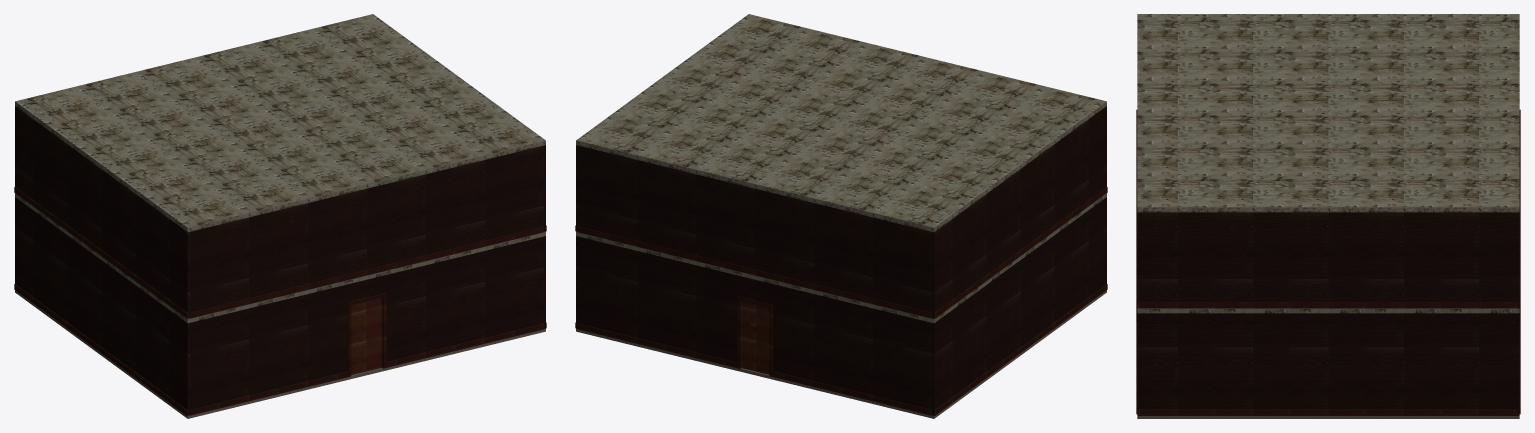
File: innsmouth-house.glb
3 views of the same model, side by side, from view 1: azimuth 30°, elevation 25°; view 2: azimuth 150°, elevation 25°; view 3: azimuth 270°, elevation 25° (orthographic). The views are drawn at different scales.
Parts seen in each view (by area): view 1: Mesh_exterior, Mesh_ceiling, Mesh_trim, Mesh_floor, Mesh_wood; view 2: Mesh_exterior, Mesh_ceiling, Mesh_trim, Mesh_floor, Mesh_wood; view 3: Mesh_ceiling, Mesh_exterior, Mesh_trim, Mesh_floor.
Part boxes in pixels (box(x1,y1,x2,y2)): Mesh_exterior: box(15, 106, 545, 415); Mesh_ceiling: box(15, 14, 545, 323); Mesh_trim: box(14, 187, 546, 415); Mesh_floor: box(15, 193, 545, 418); Mesh_wood: box(351, 298, 381, 374); Mesh_exterior: box(576, 106, 1106, 415); Mesh_ceiling: box(576, 14, 1106, 323); Mesh_trim: box(575, 187, 1107, 415); Mesh_floor: box(576, 193, 1106, 418); Mesh_wood: box(742, 302, 769, 374); Mesh_ceiling: box(1137, 14, 1519, 313); Mesh_exterior: box(1137, 212, 1519, 409); Mesh_trim: box(1136, 109, 1520, 415); Mesh_floor: box(1137, 308, 1519, 418).
Size of the model in its own units: 12.2 by 6.2 by 10.21.
Materials: 49 (38 with a texture image).
